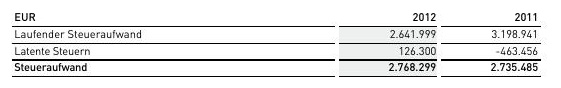table: (0, 0, 561, 88)
